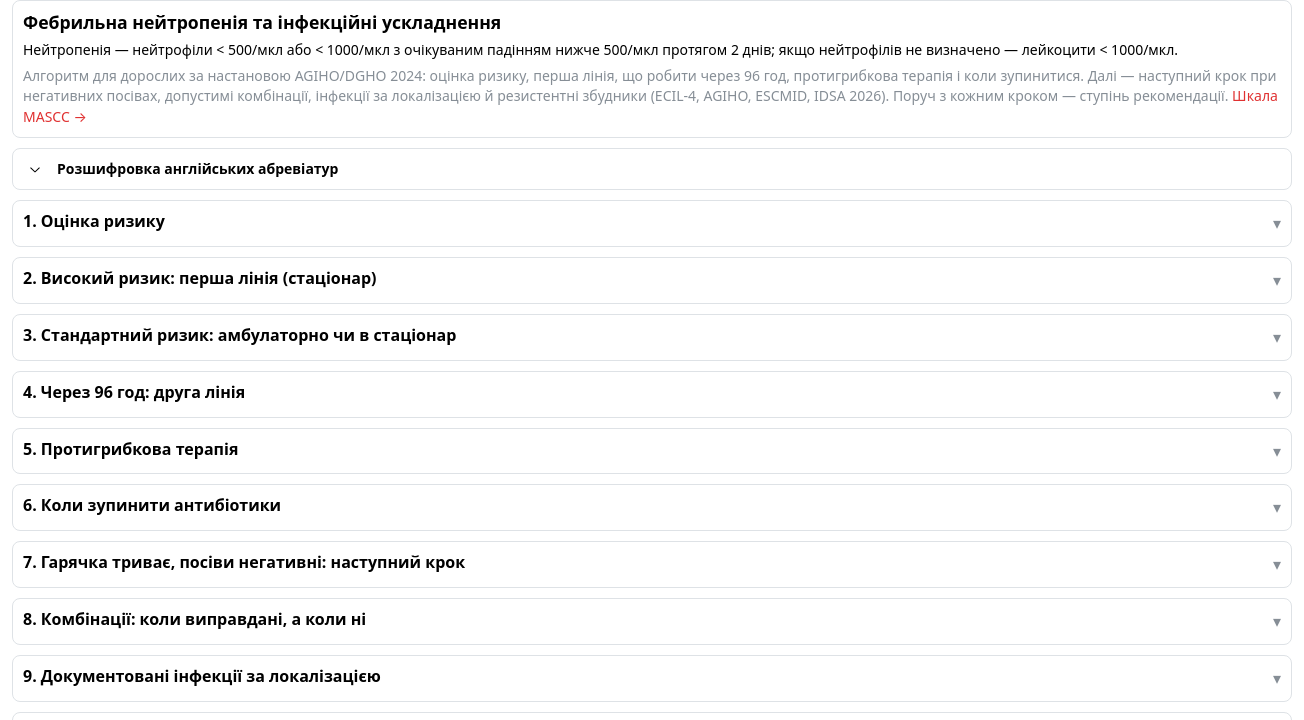
Test: FebrileNeutropeniaSection › shows only the titles of the stages and opens one on request
The image size is (1304, 720).
Step 1. Click the button "1. Оцінка ризику ▾" → click(94, 221), box [23,211,1281,236]
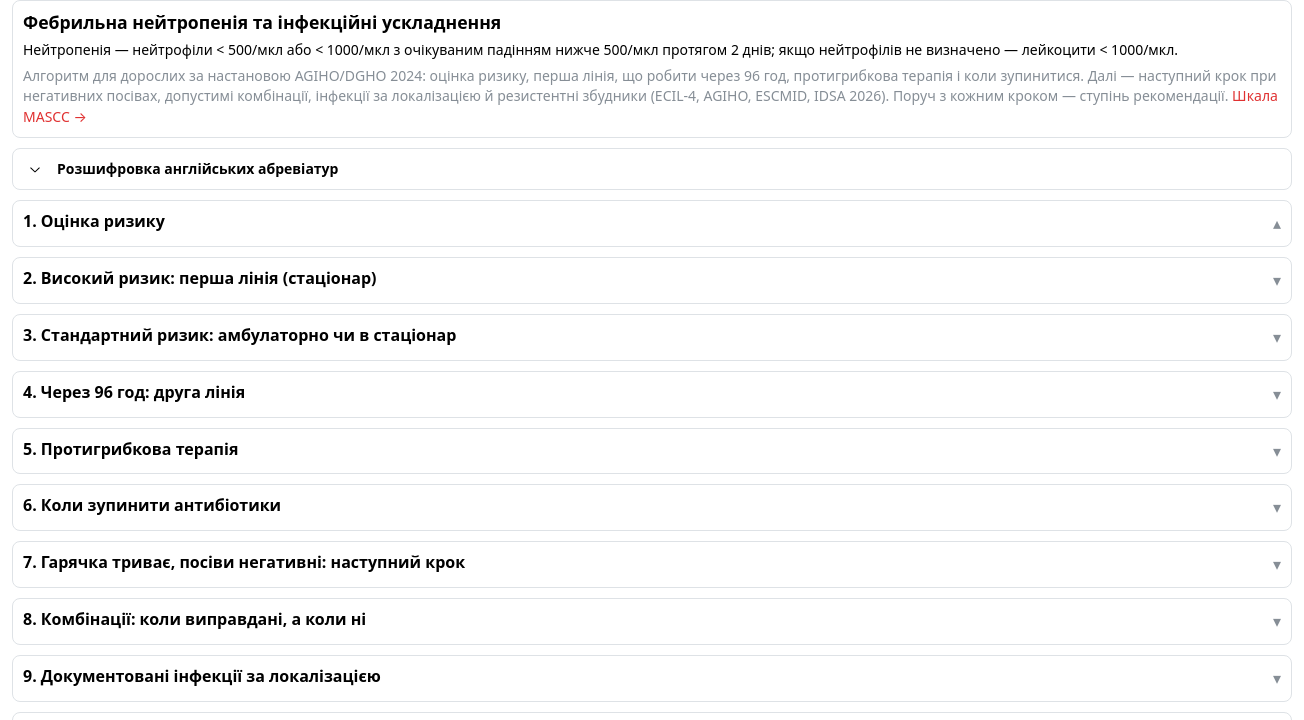
Now the button "1. Оцінка ризику ▴" is expanded
Step 2. Click the button "1. Оцінка ризику ▴" → click(94, 221), box [23,211,1281,236]
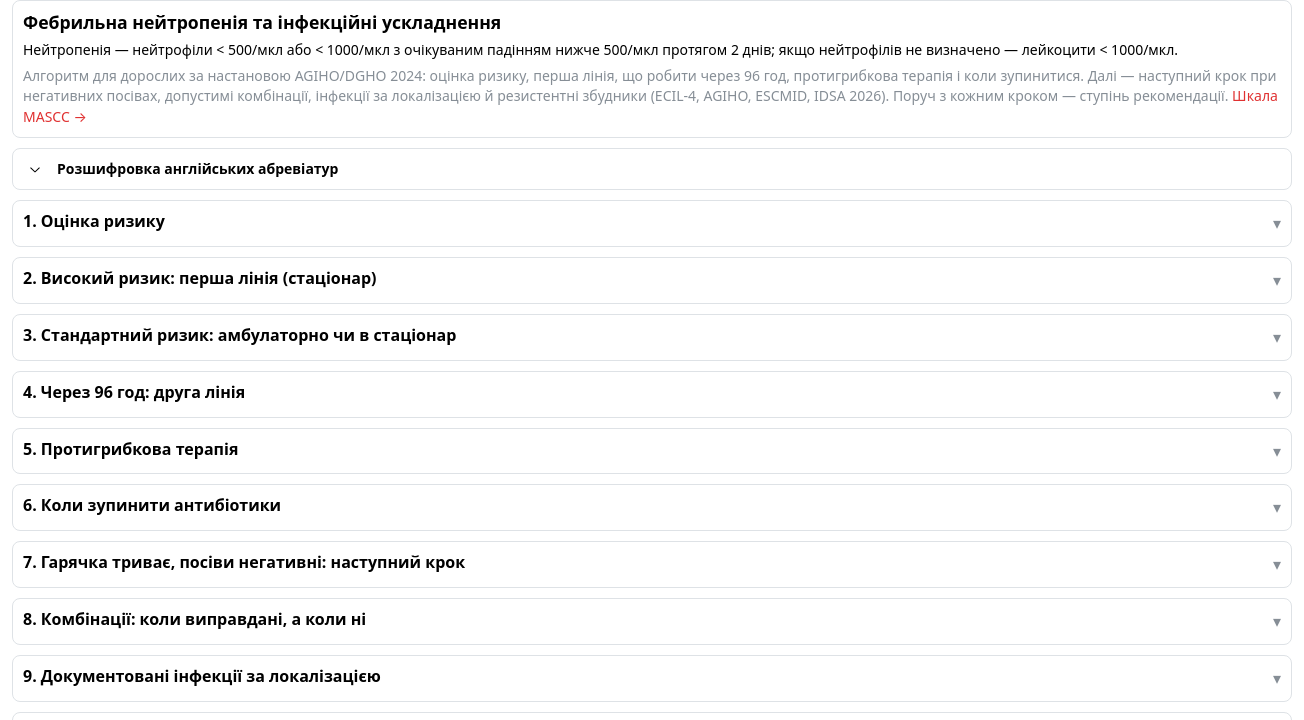
Now the button "1. Оцінка ризику ▾" is collapsed, box [23,211,1281,236]
